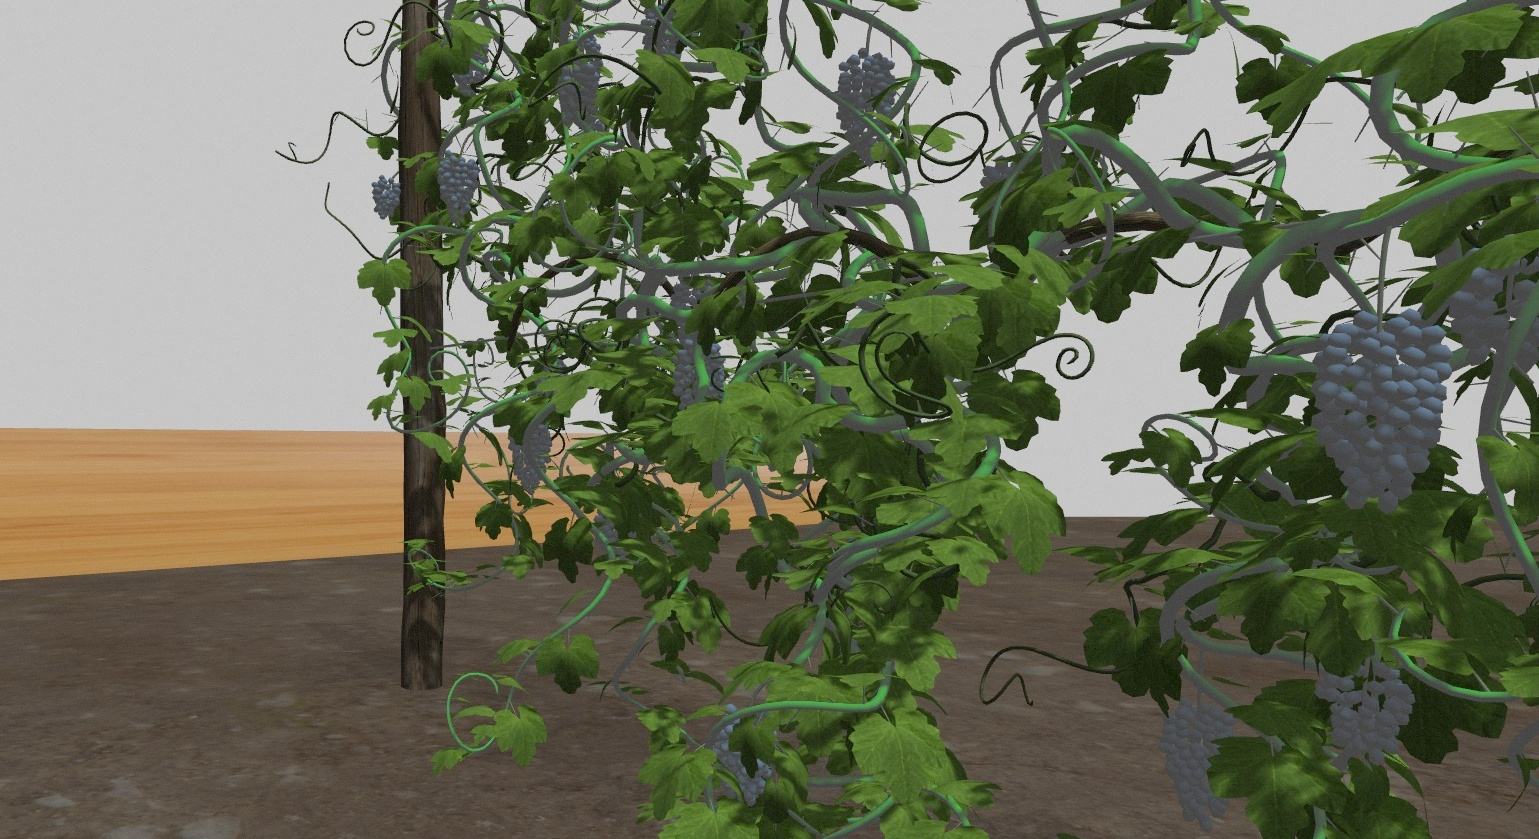grape: (1310, 306, 1450, 518), (1318, 655, 1410, 778), (1157, 702, 1240, 836), (1451, 258, 1536, 389), (833, 46, 902, 151), (717, 707, 774, 806), (560, 33, 605, 119), (506, 422, 554, 497), (437, 151, 480, 224), (369, 173, 404, 219)
